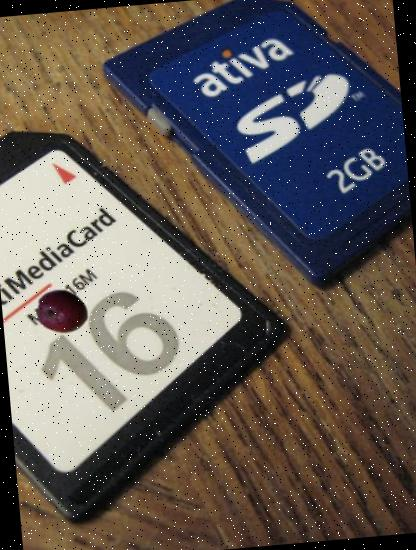Mango: (34, 284, 90, 340)
